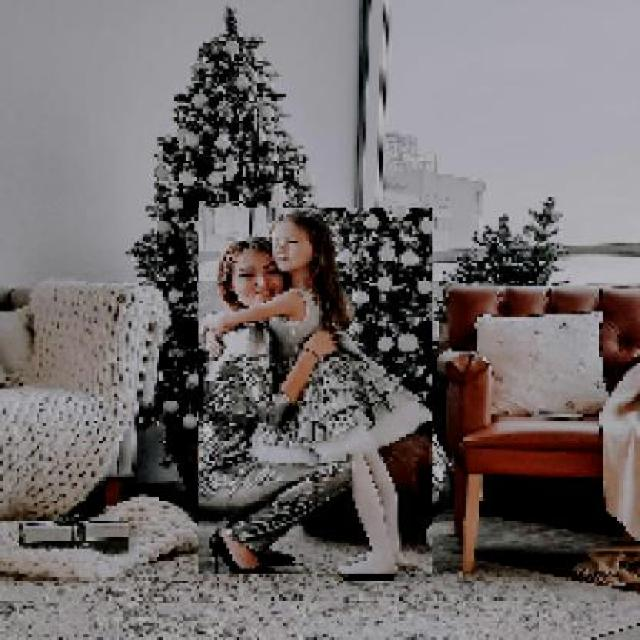child: (197, 208, 432, 575)
